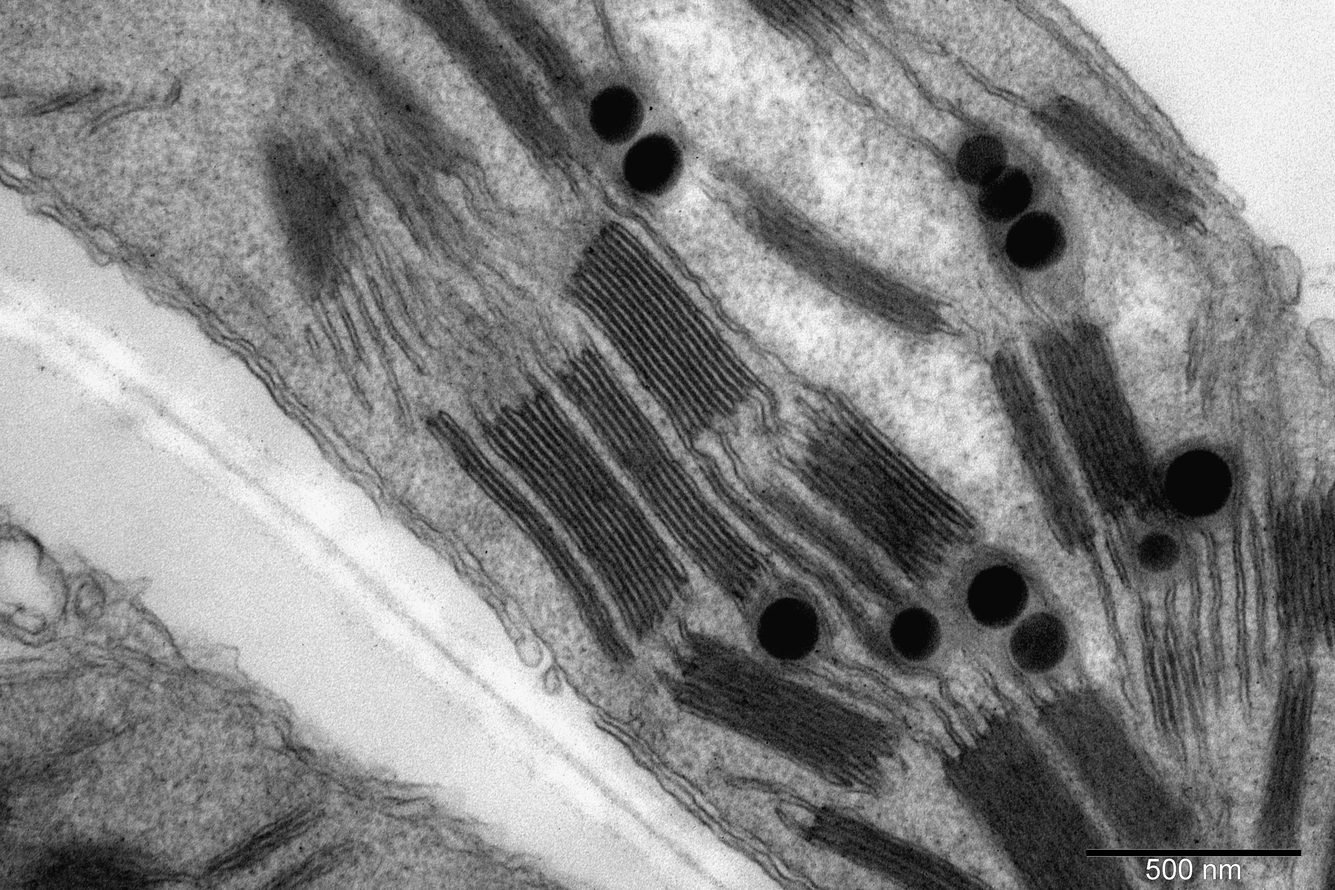granum: (551, 346, 777, 610), (421, 408, 635, 666), (479, 384, 693, 638), (282, 0, 481, 241), (557, 216, 761, 439), (721, 157, 940, 345), (792, 387, 982, 587), (672, 632, 900, 795), (940, 711, 1137, 890), (388, 0, 574, 174), (1036, 684, 1199, 859), (1025, 323, 1170, 516), (976, 346, 1103, 552), (1029, 94, 1200, 232), (752, 473, 907, 617), (801, 802, 1001, 890), (257, 139, 355, 292), (1247, 682, 1318, 848), (483, 0, 589, 103), (1260, 491, 1335, 631), (208, 798, 328, 874), (12, 837, 182, 890), (744, 2, 873, 48), (1138, 639, 1190, 744), (255, 845, 342, 890)
